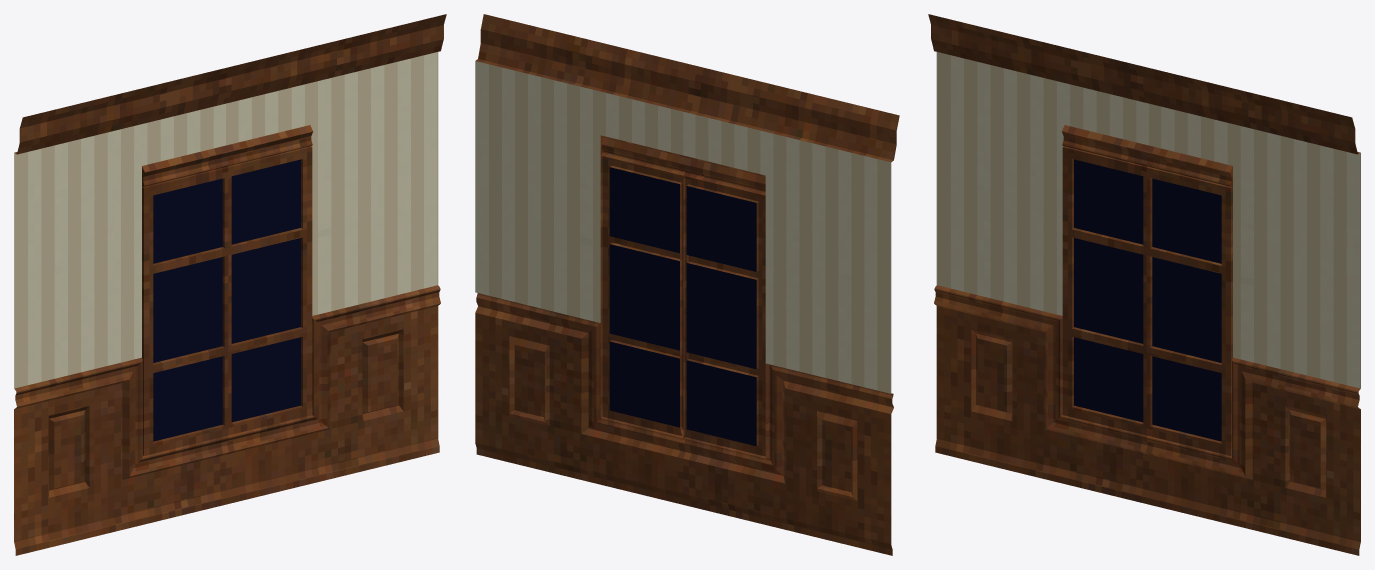
The model's file is Wall.Window.glb.
3 views of the same model, side by side, from view 1: azimuth 30°, elevation 25°; view 2: azimuth 150°, elevation 25°; view 3: azimuth 330°, elevation 25° (orthographic).
Parts seen in each view (by area): view 1: Wall.Window; view 2: Wall.Window; view 3: Wall.Window.
Boxes of the visible parts, bbox=[...] form: Wall.Window: bbox=[14, 14, 446, 555]; Wall.Window: bbox=[475, 14, 899, 555]; Wall.Window: bbox=[928, 14, 1360, 555].
Size of the model in its own units: 3 by 3 by 0.1327.
3 materials, 2 textured.
